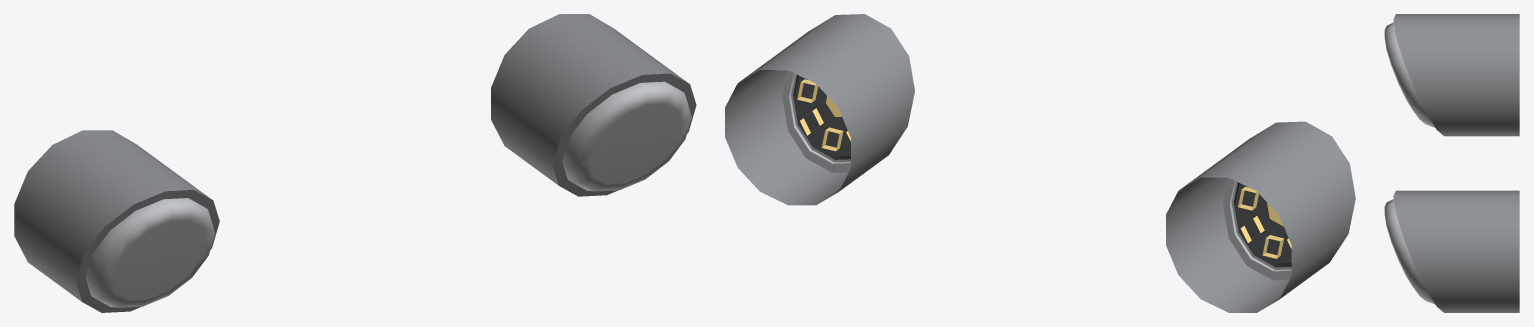
Rendered from Car_11_Headlight_Cool.fbx.
The picture shows the model from 3 angles, left to right: view 1: azimuth 30°, elevation 25°; view 2: azimuth 150°, elevation 25°; view 3: azimuth 270°, elevation 25°; orthographic projection. The views are drawn at different scales.
Visible parts, largest first — view 1: Car_11_Headlight_Cool; view 2: Car_11_Headlight_Cool; view 3: Car_11_Headlight_Cool.
Part boxes in pixels (<box>): Car_11_Headlight_Cool: <box>14,14,696,312</box>; Car_11_Headlight_Cool: <box>725,14,1355,312</box>; Car_11_Headlight_Cool: <box>1384,14,1519,312</box>.
Size of the model in its own units: 120 by 30.17 by 27.35.
